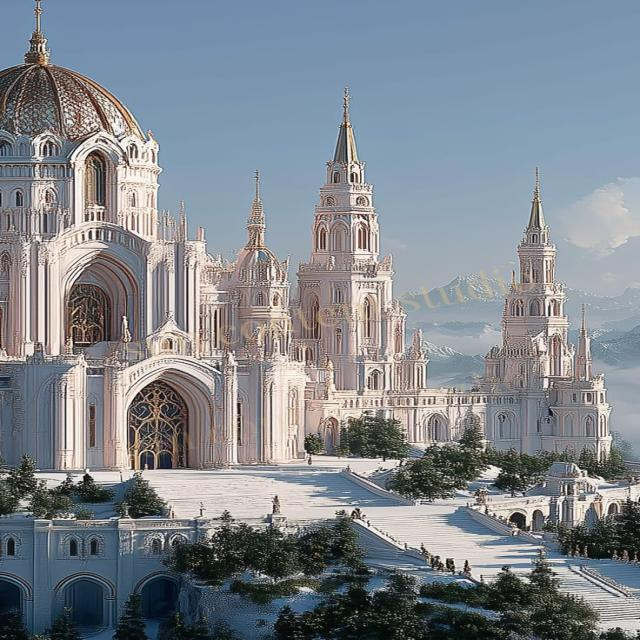castle: (2, 2, 608, 480)
